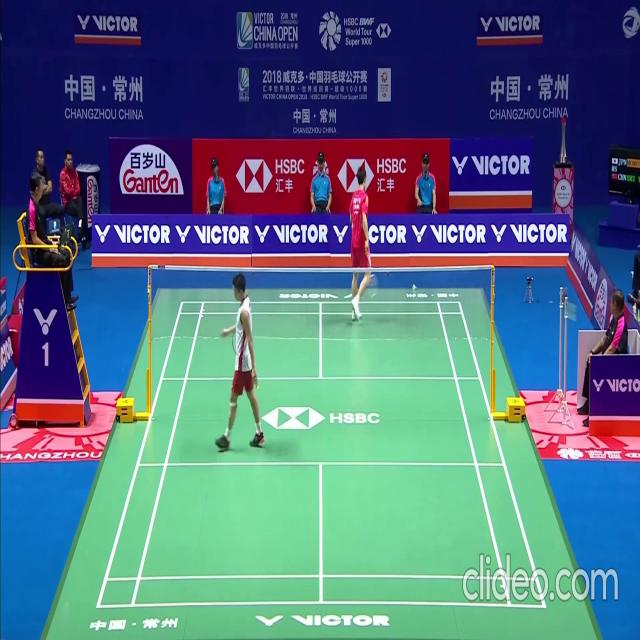Shuttlecock: (412, 282, 416, 290)
